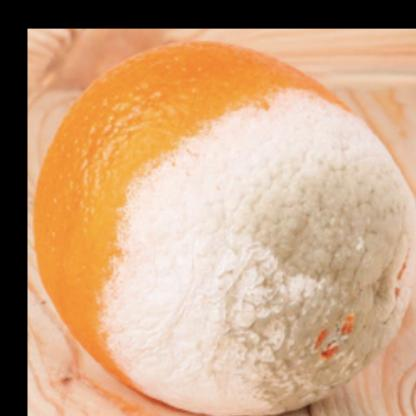rotten: (36, 41, 416, 416)
